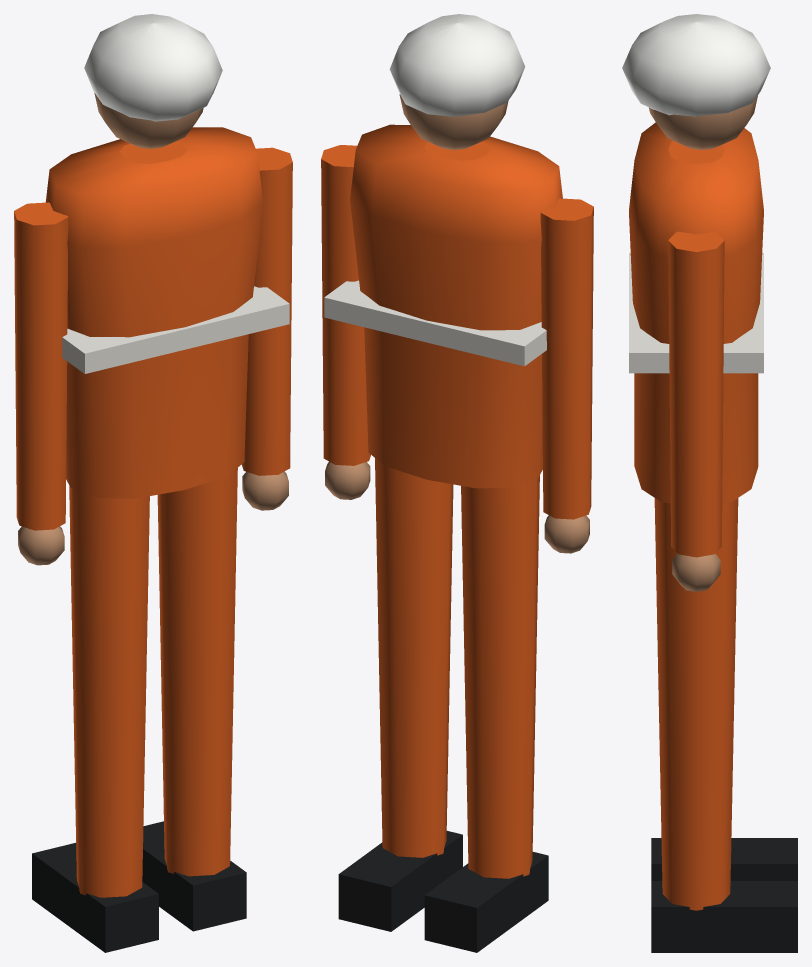
The model's file is crew.glb.
3 views of the same model, side by side, from view 1: azimuth 30°, elevation 25°; view 2: azimuth 150°, elevation 25°; view 3: azimuth 270°, elevation 25° (orthographic). The views are drawn at different scales.
Parts seen in each view (by area): view 1: crew_body, leg_l, leg_r, arm_l, arm_r; view 2: crew_body, leg_l, leg_r, arm_l, arm_r; view 3: crew_body, leg_r, arm_r, leg_l.
Boxes of the visible parts, box(x1,y1,x2,y2) form: crew_body: box(45, 14, 289, 498); leg_l: box(32, 486, 158, 952); leg_r: box(142, 468, 246, 931); arm_l: box(14, 202, 68, 565); arm_r: box(242, 147, 292, 510); crew_body: box(324, 14, 562, 488); leg_l: box(424, 475, 548, 952); leg_r: box(338, 458, 462, 931); arm_l: box(540, 198, 593, 553); arm_r: box(321, 145, 370, 499); crew_body: box(622, 14, 770, 503); leg_r: box(651, 498, 797, 952); arm_r: box(668, 231, 724, 591); leg_l: box(651, 838, 797, 880).
Size of the model in its own units: 0.56 by 1.75 by 0.312.
